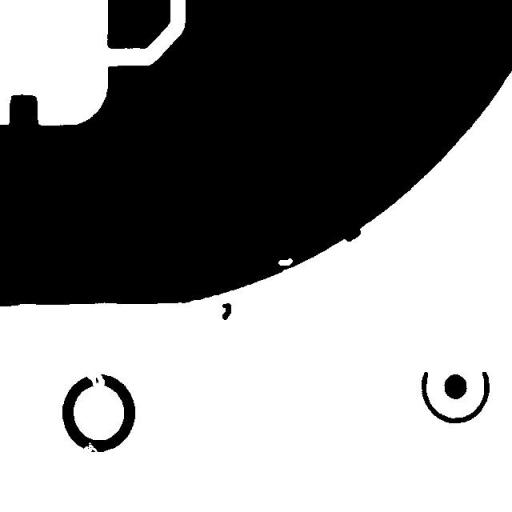copper: (214, 295, 238, 327)
mousebite: (76, 434, 105, 460)
open: (78, 364, 112, 402)
pin-hole: (270, 250, 300, 273)
spur: (334, 216, 368, 249)
